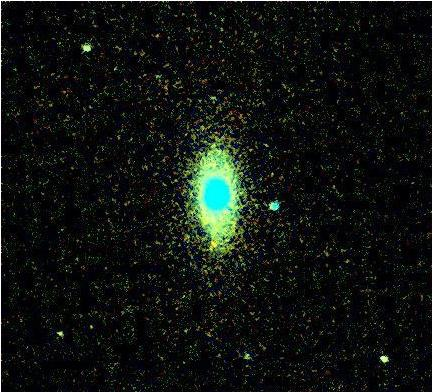star: (198, 231, 228, 261)
